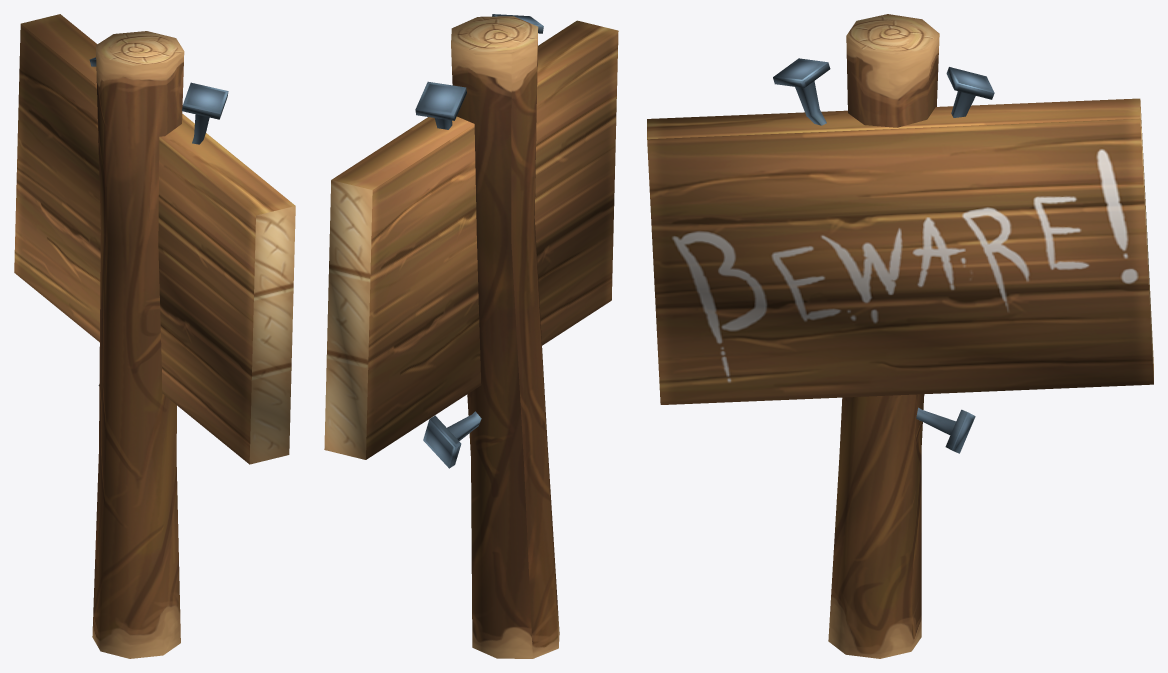
File: sign_01.fbx
3 views of the same model, side by side, from view 1: azimuth 30°, elevation 25°; view 2: azimuth 150°, elevation 25°; view 3: azimuth 270°, elevation 25° (orthographic). The views are drawn at different scales.
Visible parts, largest first — view 1: sign_01; view 2: sign_01; view 3: sign_01.
Boxes of the visible parts, x1=… form: sign_01: x1=14, y1=14, x2=295, y2=658; sign_01: x1=324, y1=14, x2=618, y2=658; sign_01: x1=647, y1=14, x2=1153, y2=658.
Bounding box in the file's own units: 0.9443 × 5.5 × 4.13.
